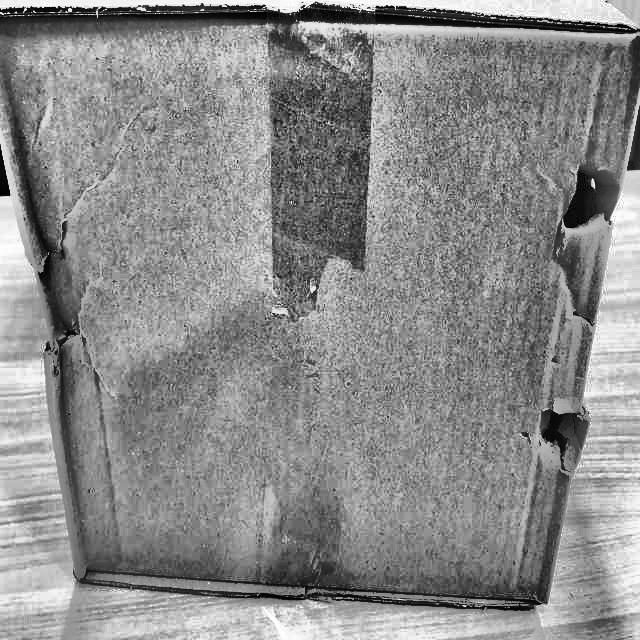box: (0, 0, 639, 620)
hole: (29, 222, 112, 393), (551, 140, 619, 250), (529, 373, 585, 483)
